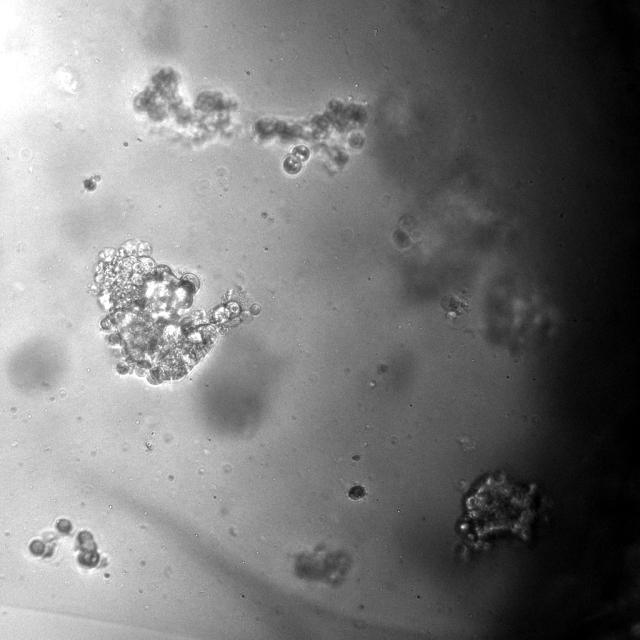organoid: (86, 238, 263, 388), (252, 99, 368, 175), (133, 67, 239, 146), (456, 470, 545, 556), (291, 542, 352, 587), (28, 519, 72, 558), (75, 530, 108, 569), (441, 292, 475, 329), (392, 227, 412, 250), (348, 483, 367, 501), (82, 174, 102, 191), (350, 453, 361, 462), (103, 571, 111, 579)
